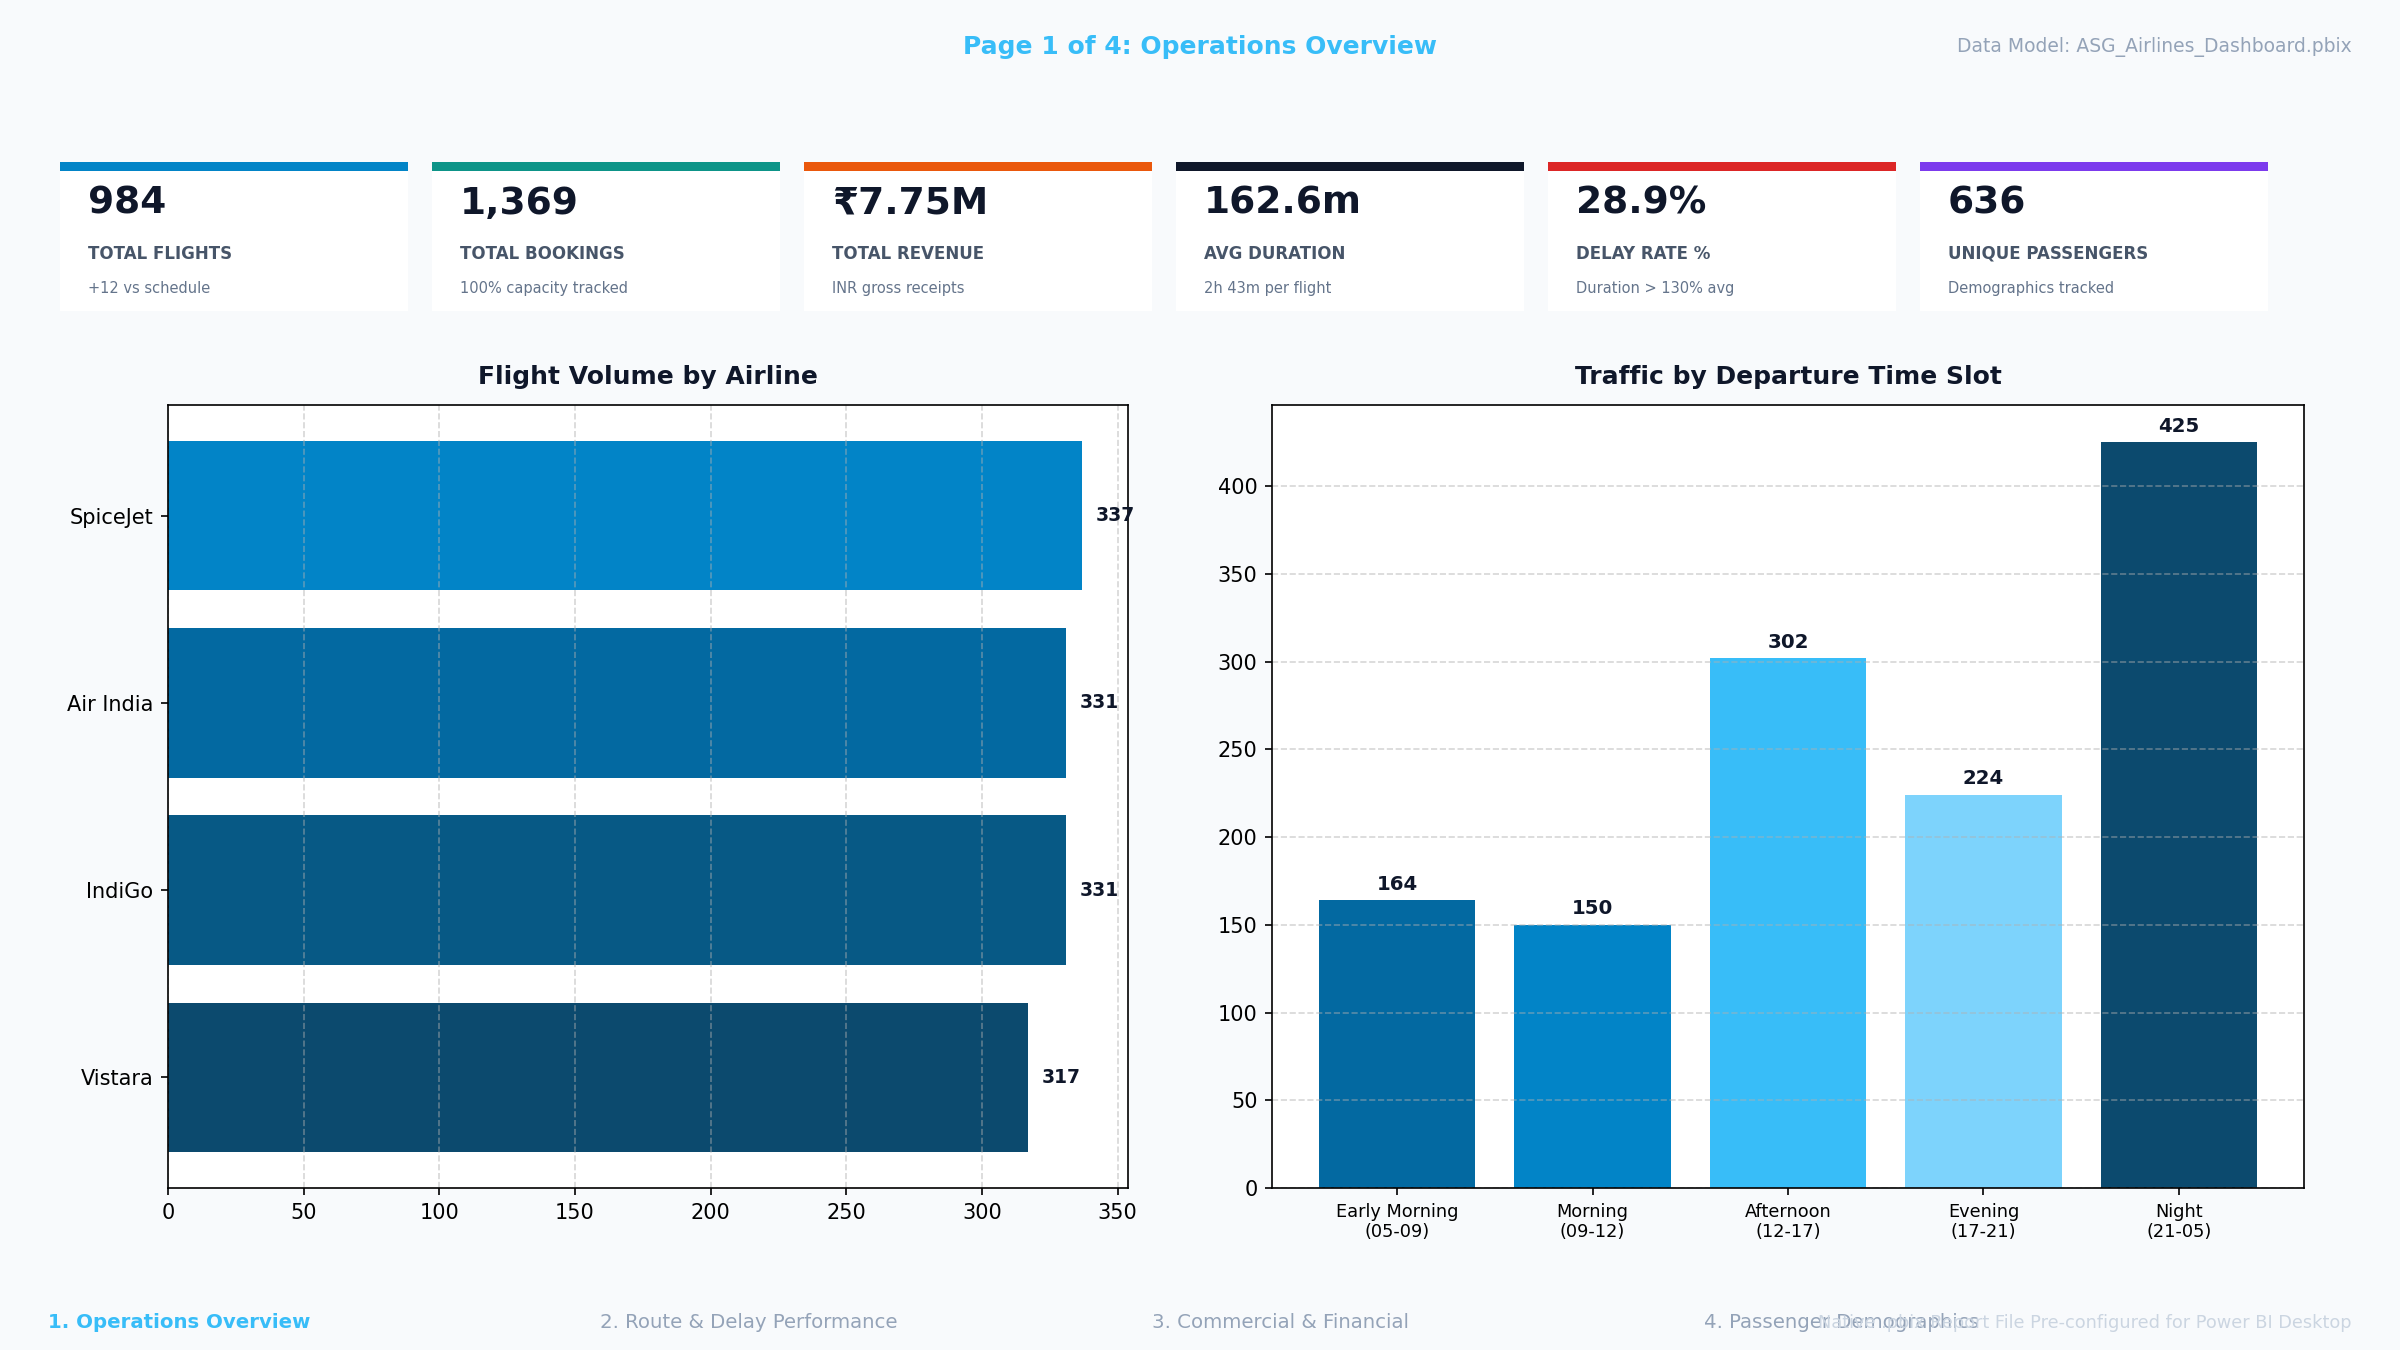

This screenshot's page, from the dashboard's own definition file:
{"tool":"powerbi","page":{"name":"Operations Overview","canvas":[1280,720],"ordinal":0},"visuals":[{"type":"card","fields":{"Values":["master_dataset.Total Flights"]},"box":[20,20,220,110],"z":0},{"type":"card","fields":{"Values":["master_dataset.Total Bookings"]},"box":[260,20,220,110],"z":1000},{"type":"card","fields":{"Values":["master_dataset.Total Revenue"]},"box":[500,20,220,110],"z":2000},{"type":"card","fields":{"Values":["master_dataset.Avg Duration"]},"box":[740,20,220,110],"z":3000},{"type":"card","fields":{"Values":["master_dataset.Total Unique Passengers"]},"box":[980,20,220,110],"z":4000},{"type":"barChart","fields":{"Category":["master_dataset.airline"],"Y":["master_dataset.Total Bookings"]},"box":[20,150,580,330],"z":5000},{"type":"columnChart","fields":{"Category":["master_dataset.departure_slot"],"Y":["master_dataset.Total Flights"]},"box":[620,150,580,330],"z":6000},{"type":"slicer","fields":{"Values":["master_dataset.airline"]},"box":[20,500,380,180],"z":7000},{"type":"slicer","fields":{"Values":["master_dataset.departure_slot"]},"box":[420,500,380,180],"z":8000},{"type":"slicer","fields":{"Values":["master_dataset.status"]},"box":[820,500,380,180],"z":9000}]}

Visuals, with their boxes in screenshot pixels (x1, y1, x2, y2), scaled from the page's 1280x720 canvas onto the 2400x1350 screenshot:
card - master_dataset.Total Flights: left=38, top=38, right=450, bottom=244
card - master_dataset.Total Bookings: left=488, top=38, right=900, bottom=244
card - master_dataset.Total Revenue: left=938, top=38, right=1350, bottom=244
card - master_dataset.Avg Duration: left=1388, top=38, right=1800, bottom=244
card - master_dataset.Total Unique Passengers: left=1838, top=38, right=2250, bottom=244
barChart - master_dataset.airline x master_dataset.Total Bookings: left=38, top=281, right=1125, bottom=900
columnChart - master_dataset.departure_slot x master_dataset.Total Flights: left=1162, top=281, right=2250, bottom=900
slicer - master_dataset.airline: left=38, top=938, right=750, bottom=1275
slicer - master_dataset.departure_slot: left=788, top=938, right=1500, bottom=1275
slicer - master_dataset.status: left=1538, top=938, right=2250, bottom=1275
